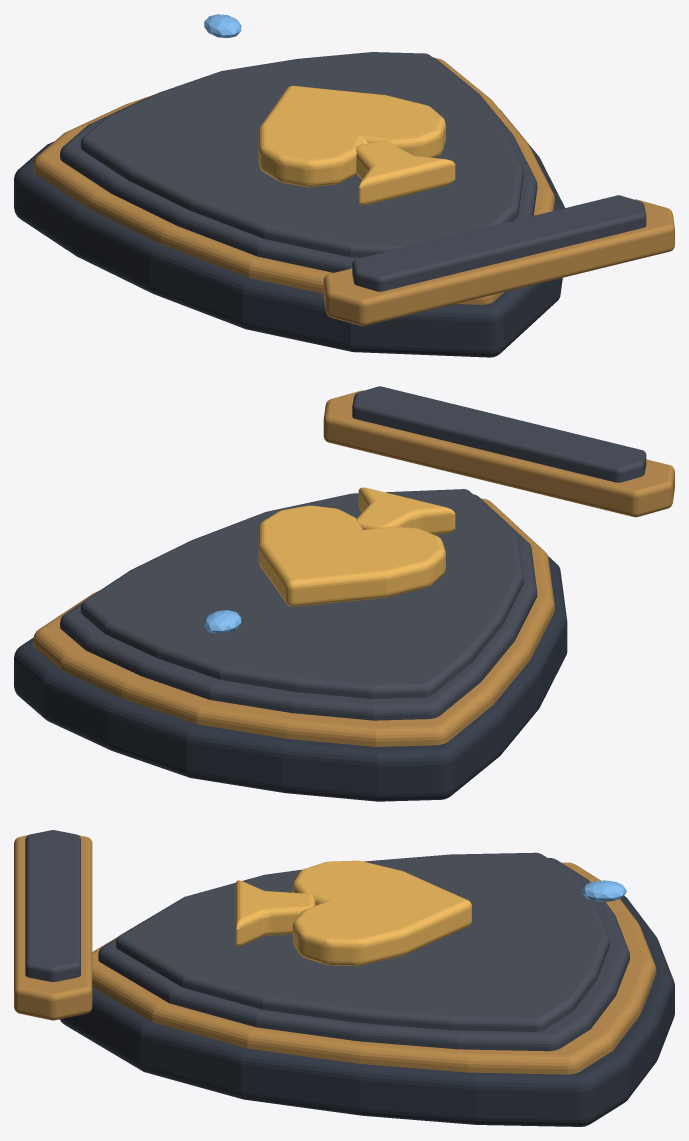
The model's file is novice.glb.
3 renders of one model, top to bottom at view 1: azimuth 30°, elevation 25°; view 2: azimuth 150°, elevation 25°; view 3: azimuth 270°, elevation 25°, orthographic.
Parts seen in each view (by area): view 1: SHIELD_FACE, SHIELD_BACK, NOVICE_SPADE_HEAD, NAMEPLATE_FRAME, NAMEPLATE_BLANK, SHIELD_FRAME, SHIELD_DARK_TRIM, NOVICE_SPADE_STEM, NOVICE_TOP_GEM; view 2: SHIELD_FACE, SHIELD_BACK, SHIELD_FRAME, NOVICE_SPADE_HEAD, SHIELD_DARK_TRIM, NAMEPLATE_FRAME, NAMEPLATE_BLANK, NOVICE_SPADE_STEM, NOVICE_TOP_GEM; view 3: SHIELD_FACE, SHIELD_BACK, SHIELD_FRAME, NOVICE_SPADE_HEAD, SHIELD_DARK_TRIM, NAMEPLATE_BLANK, NAMEPLATE_FRAME, NOVICE_SPADE_STEM, NOVICE_TOP_GEM.
Part boxes in pixels (x1,y1,x2,y2): SHIELD_FACE: [80, 52, 523, 257]; SHIELD_BACK: [14, 109, 564, 357]; NOVICE_SPADE_HEAD: [258, 85, 445, 187]; NAMEPLATE_FRAME: [323, 199, 674, 326]; NAMEPLATE_BLANK: [352, 195, 646, 291]; SHIELD_FRAME: [33, 58, 554, 304]; SHIELD_DARK_TRIM: [60, 57, 537, 272]; NOVICE_SPADE_STEM: [356, 140, 455, 205]; NOVICE_TOP_GEM: [204, 14, 241, 37]; SHIELD_FACE: [80, 489, 523, 698]; SHIELD_BACK: [14, 556, 567, 801]; SHIELD_FRAME: [33, 498, 554, 746]; NOVICE_SPADE_HEAD: [258, 505, 445, 606]; SHIELD_DARK_TRIM: [60, 494, 537, 720]; NAMEPLATE_FRAME: [323, 390, 674, 517]; NAMEPLATE_BLANK: [352, 386, 646, 482]; NOVICE_SPADE_STEM: [356, 487, 455, 534]; NOVICE_TOP_GEM: [204, 610, 241, 633]; SHIELD_FACE: [116, 852, 609, 1031]; SHIELD_BACK: [60, 896, 674, 1126]; SHIELD_FRAME: [92, 862, 656, 1074]; NOVICE_SPADE_HEAD: [292, 860, 471, 966]; SHIELD_DARK_TRIM: [98, 858, 629, 1051]; NAMEPLATE_BLANK: [25, 830, 80, 981]; NAMEPLATE_FRAME: [14, 835, 92, 1020]; NOVICE_SPADE_STEM: [235, 880, 315, 946]; NOVICE_TOP_GEM: [581, 880, 626, 901].
Size of the model in its own units: 3.08 by 0.955 by 4.04.
